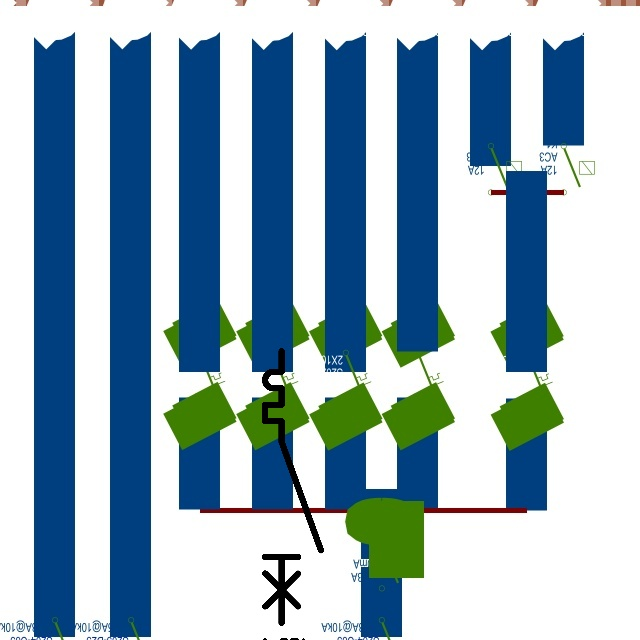interruptor_termomagnetico: (258, 344, 328, 630)
